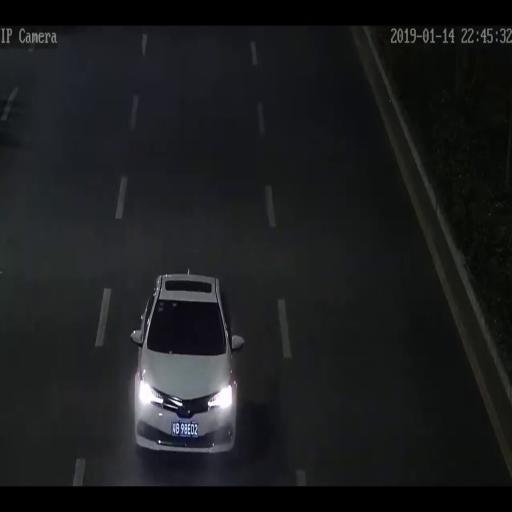License plate: (171, 421, 199, 438)
Vehicle: (130, 268, 244, 455)
